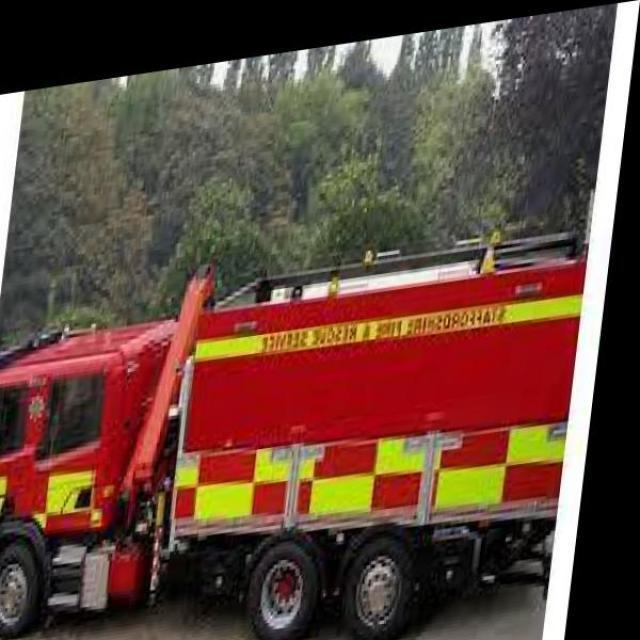emergency: (0, 224, 588, 639)
